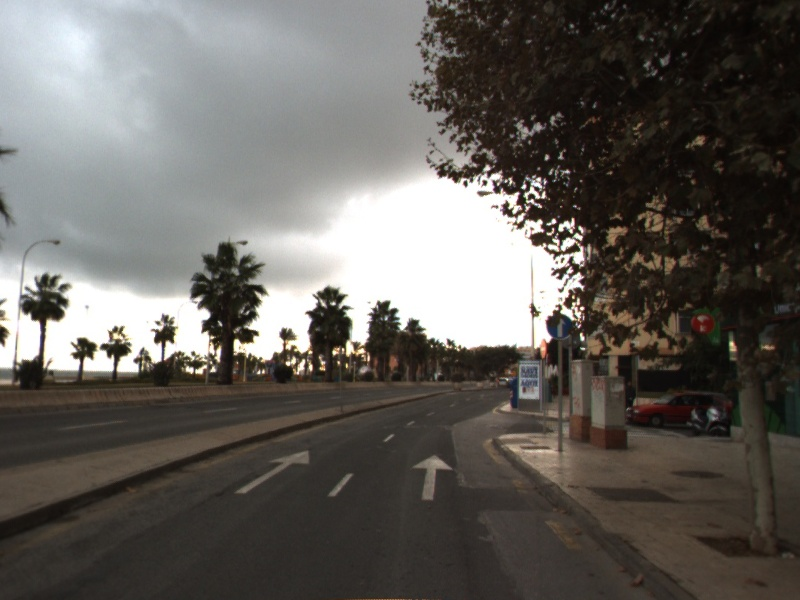STRAIGHT: (233, 448, 312, 495), (410, 453, 455, 502)
